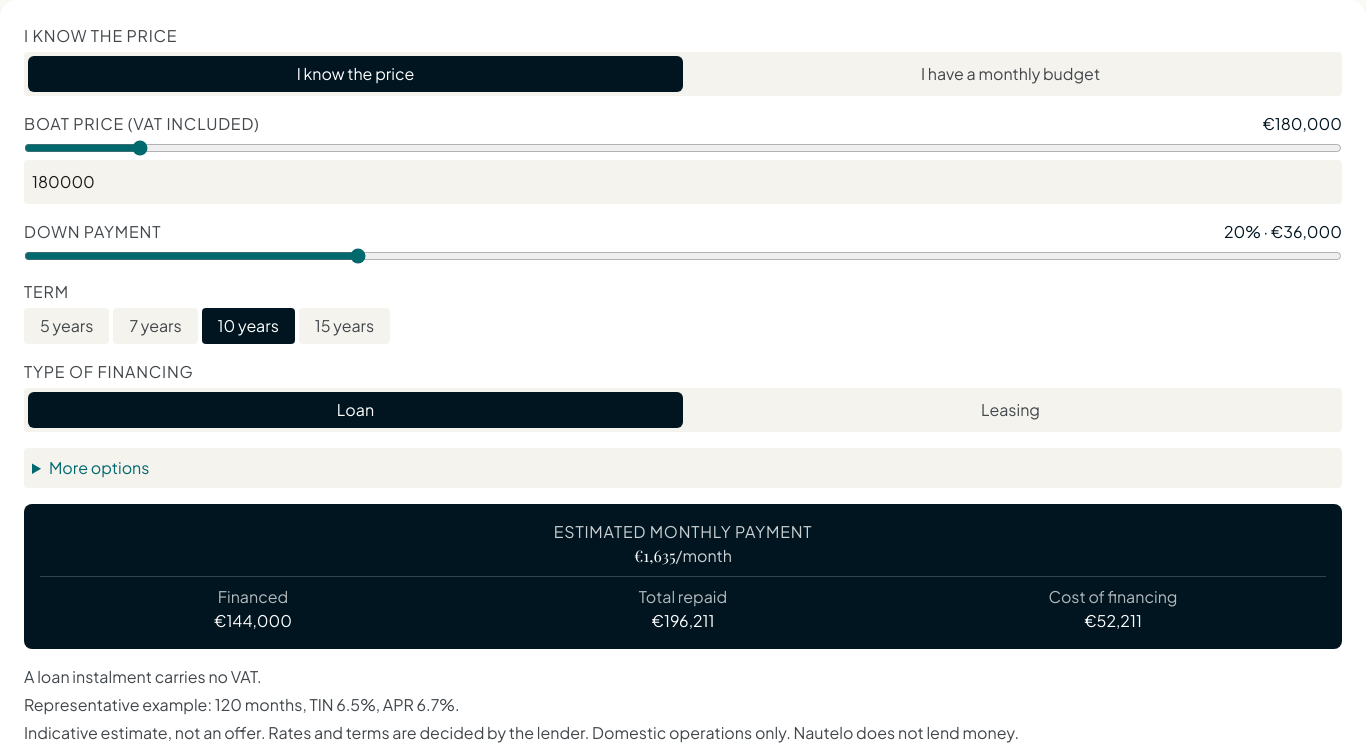
FinanceSimulator › switches to leasing and shows the VAT it carries
The width and height of the screenshot is (1366, 747).
Expected: the text "Estimated monthly payment" is shown, [554,521,812,542]
What coordinates should you click on to do the following:
click the button "Leasing"
I would click on:
 (1010, 410)
Its box is [683,392,1338,428].
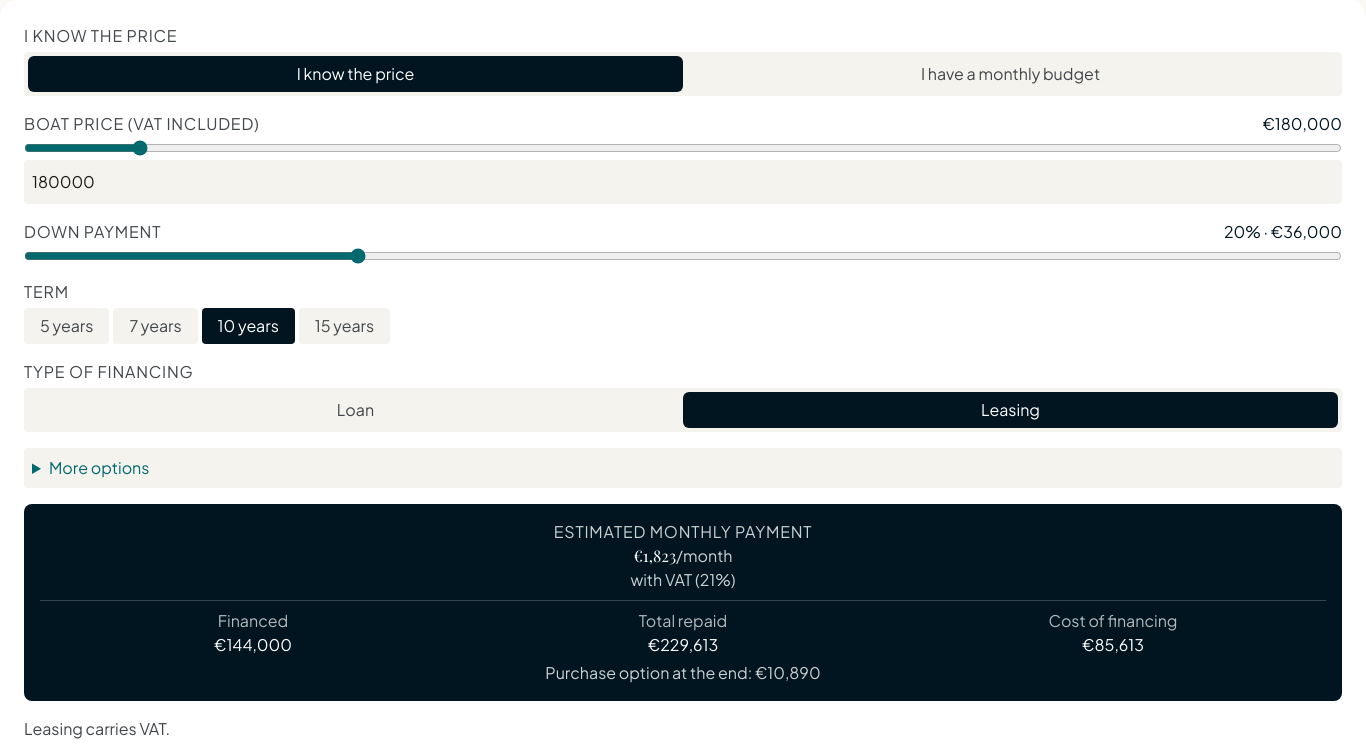
Expected: the text "Leasing carries VAT." is shown, [24,718,170,739]
Expected: the text "with VAT (21%)" is shown, [630,569,736,590]
